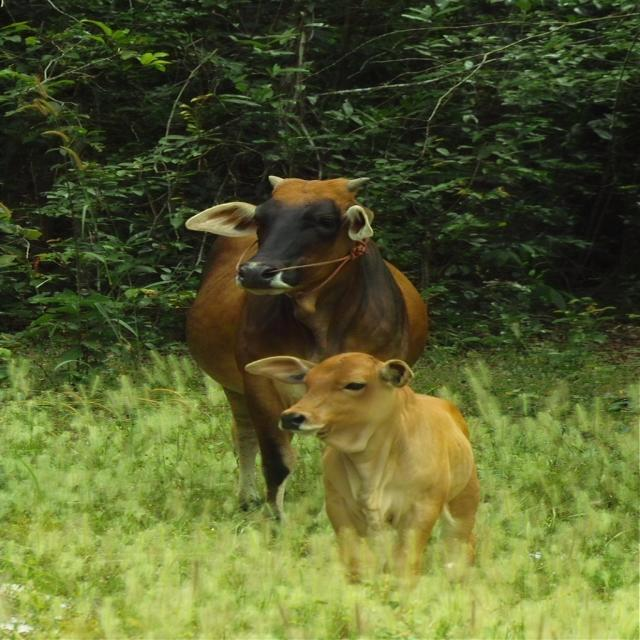cow: (186, 178, 425, 512), (246, 352, 480, 576)
